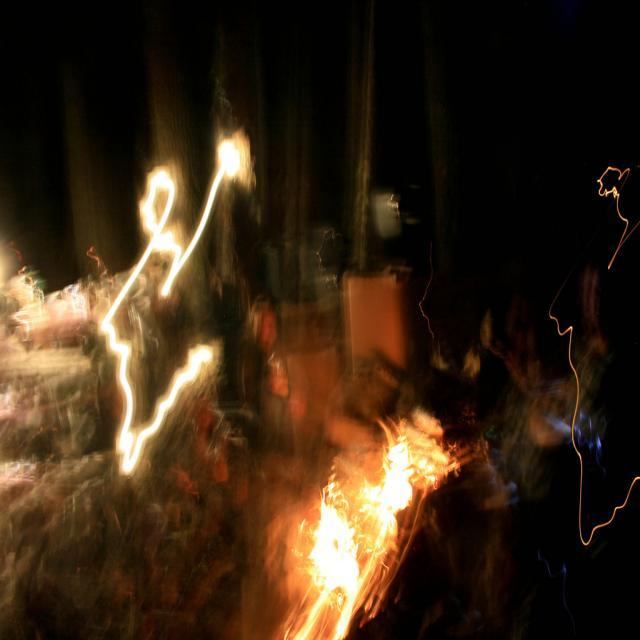Fire: (318, 502, 366, 608), (366, 445, 414, 517)
